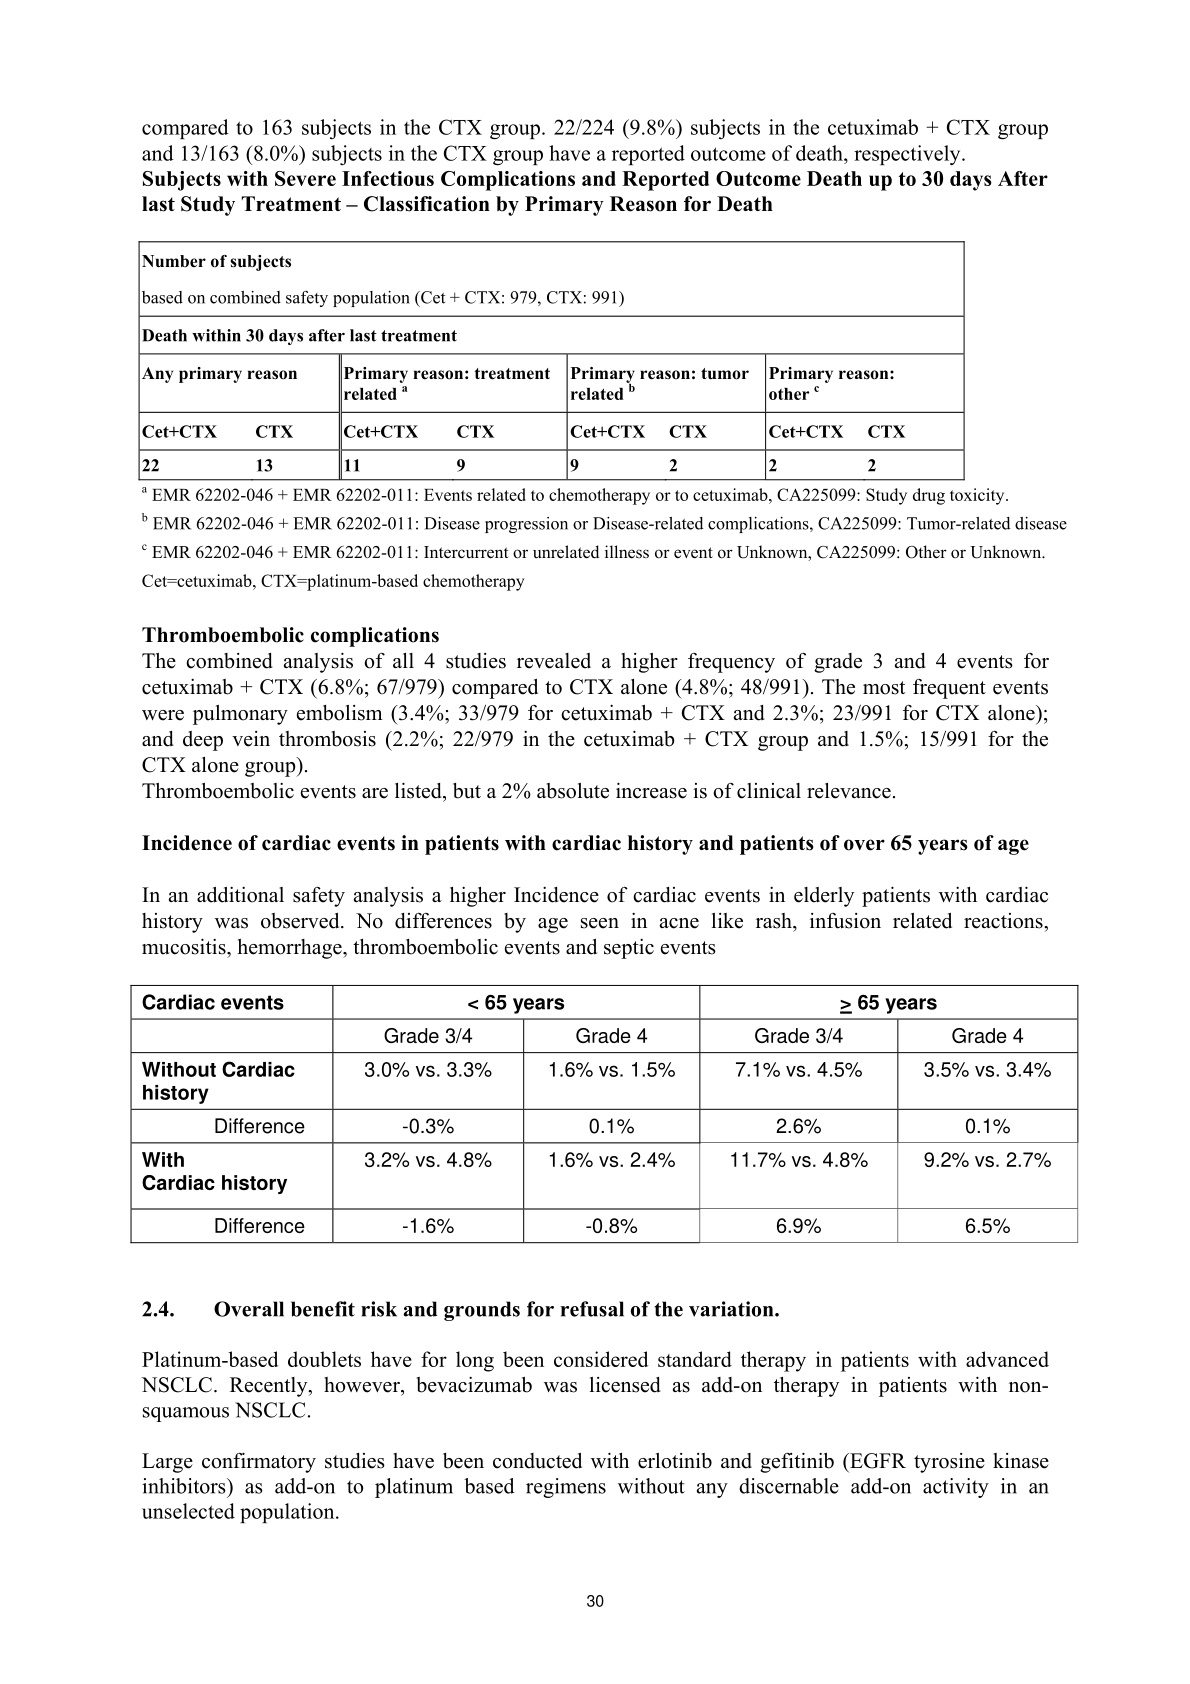merged_cells: (129, 984, 1079, 1245), (137, 239, 966, 482)
